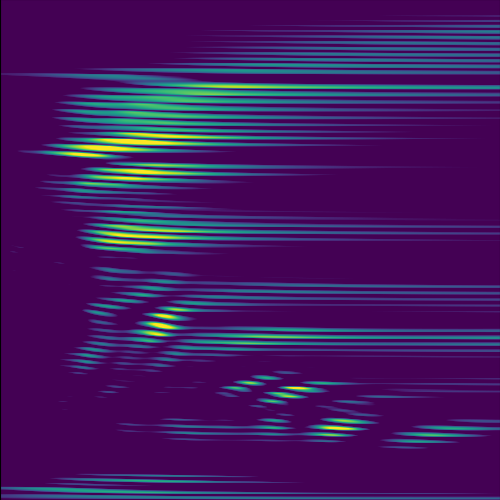semblance: (54, 126, 216, 161), (88, 219, 200, 255), (88, 160, 196, 190), (137, 300, 196, 341), (272, 379, 321, 401), (319, 413, 368, 434), (234, 376, 266, 388)
